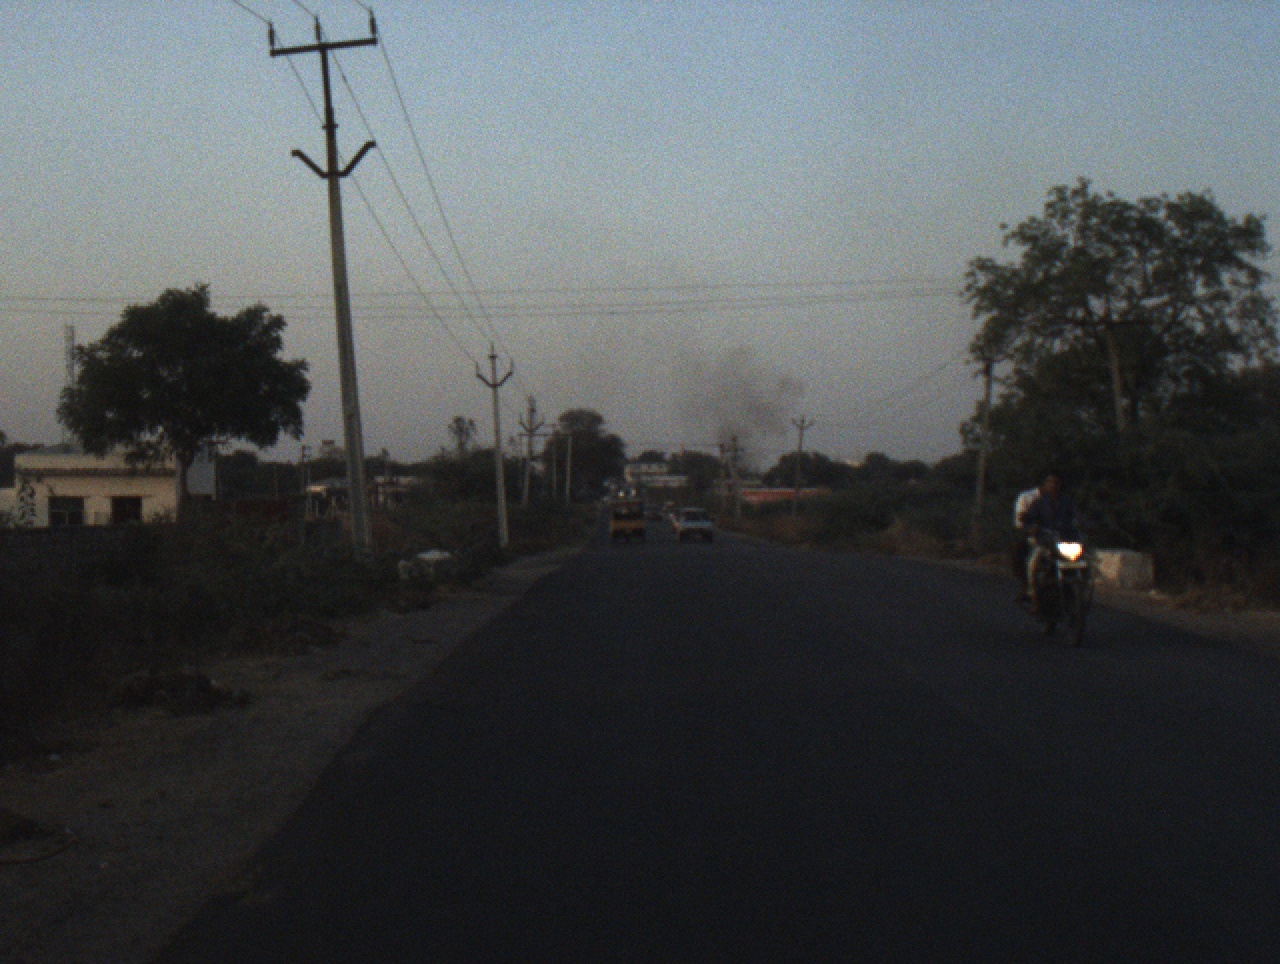autorickshaw: (609, 494, 648, 545)
car: (670, 502, 720, 546), (642, 498, 662, 522)
motorcycle: (1007, 518, 1099, 646)
rider: (1025, 466, 1083, 609), (1006, 485, 1040, 603)
